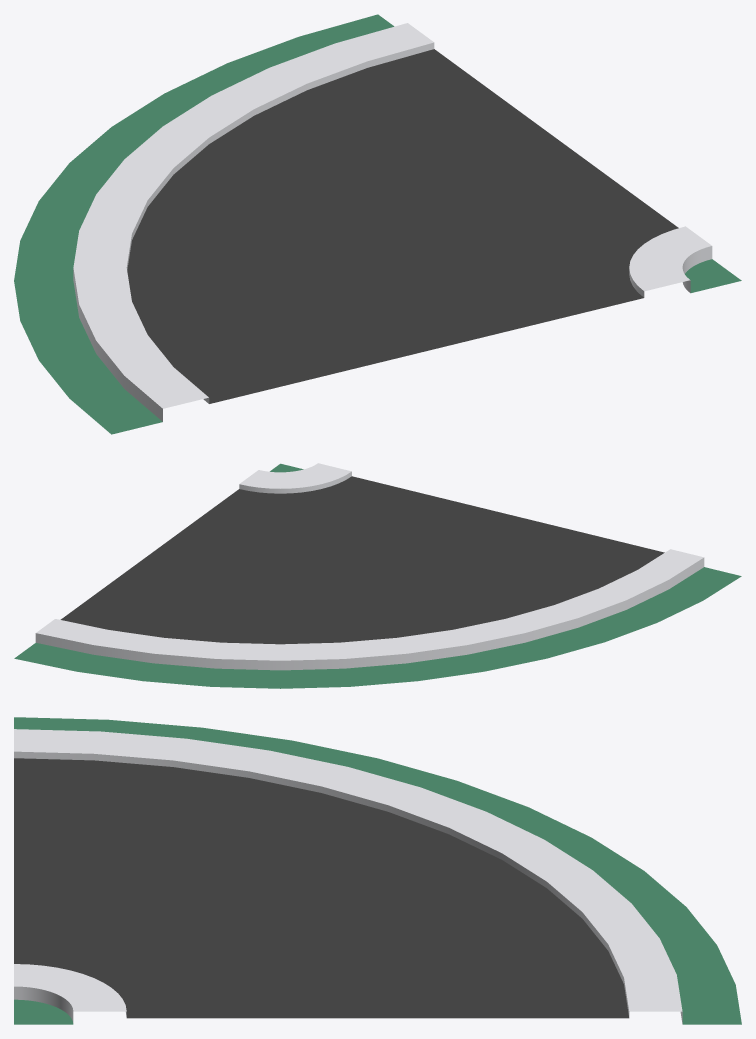
Rendered from roadCornerSmall3.obj.
3 views of the same model, one above another, from view 1: azimuth 30°, elevation 25°; view 2: azimuth 150°, elevation 25°; view 3: azimuth 270°, elevation 25° (orthographic). The views are drawn at different scales.
Parts seen in each view (by area): view 1: roadCornerSmall; view 2: roadCornerSmall; view 3: roadCornerSmall.
Part boxes in pixels (x1,y1,x2,y2): roadCornerSmall: (14,14,741,434); roadCornerSmall: (14,463,741,688); roadCornerSmall: (14,717,741,1024).
Size of the model in its own units: 1 by 0.02 by 1.
